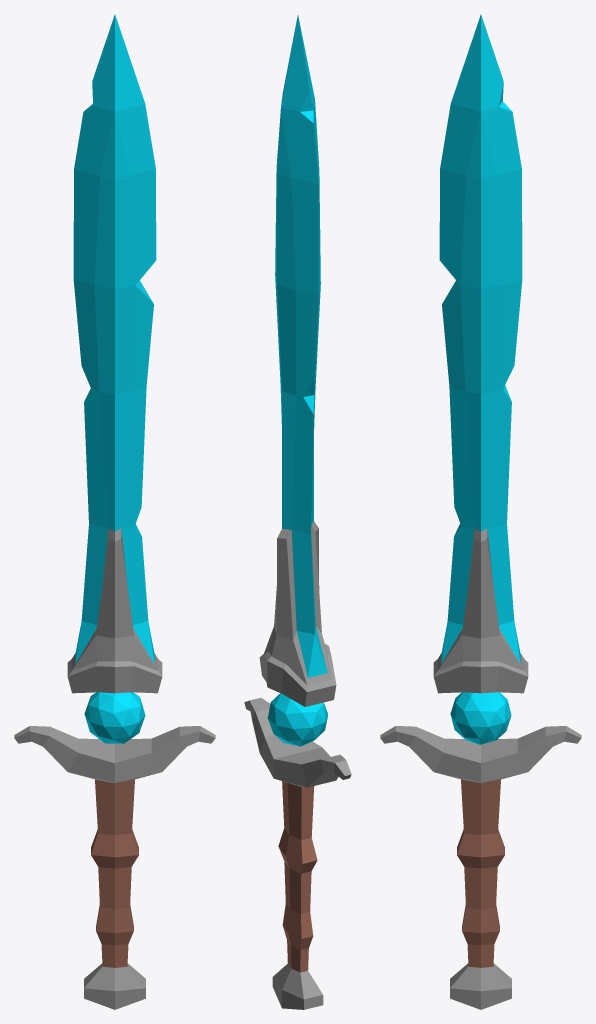
File: GreatSword_Weapon.FBX
3 views of the same model, side by side, from view 1: azimuth 90°, elevation 25°; view 2: azimuth 210°, elevation 25°; view 3: azimuth 270°, elevation 25° (orthographic).
Visible parts, largest first — view 1: SM_Wep_Crystal_Ornate_Straightsword_01; view 2: SM_Wep_Crystal_Ornate_Straightsword_01; view 3: SM_Wep_Crystal_Ornate_Straightsword_01.
Part boxes in pixels (x1,y1,x2,y2): SM_Wep_Crystal_Ornate_Straightsword_01: (14,14,215,1009); SM_Wep_Crystal_Ornate_Straightsword_01: (244,15,351,1009); SM_Wep_Crystal_Ornate_Straightsword_01: (380,14,581,1009).
Bounding box in the file's own units: 7.68 × 21.69 × 118.
